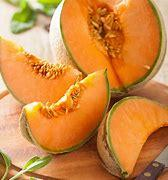Melon Ripe: (50, 0, 167, 96), (19, 69, 110, 155), (98, 95, 168, 179), (0, 35, 82, 106)
